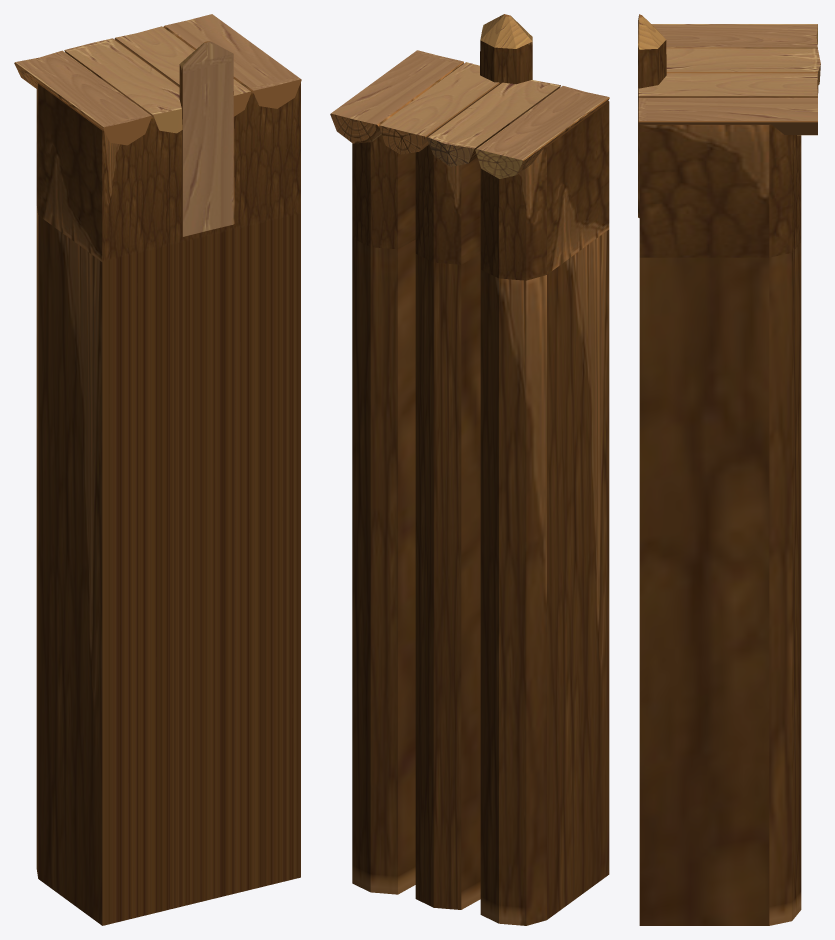
File: platform wood.fbx
3 views of the same model, side by side, from view 1: azimuth 30°, elevation 25°; view 2: azimuth 150°, elevation 25°; view 3: azimuth 270°, elevation 25° (orthographic). The views are drawn at different scales.
Visible parts, largest first — view 1: Cube; view 2: Cube; view 3: Cube.
Boxes of the visible parts, x1,y1,x2,y2 form: Cube: (14, 14, 301, 925); Cube: (330, 14, 609, 925); Cube: (638, 14, 820, 925).
Size of the model in its own units: 434 by 1791 by 343.
2 materials, 2 textured.
